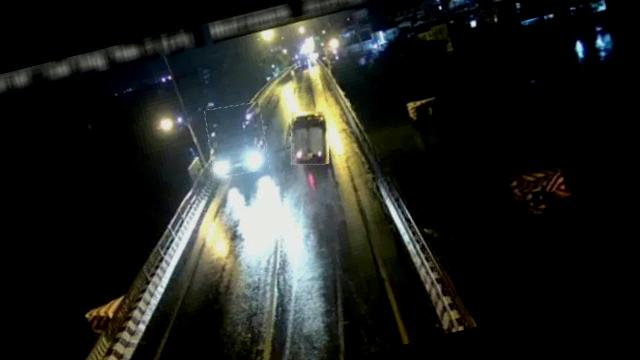Truck: (200, 99, 274, 181), (283, 106, 338, 170)
